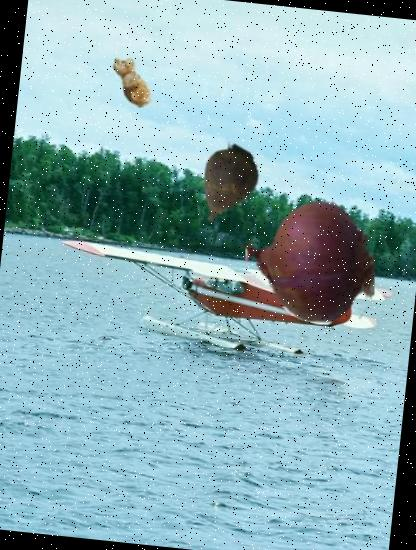Beetroot: (176, 138, 272, 234)
Ginger: (100, 50, 164, 114)
Onion: (238, 191, 380, 333)
